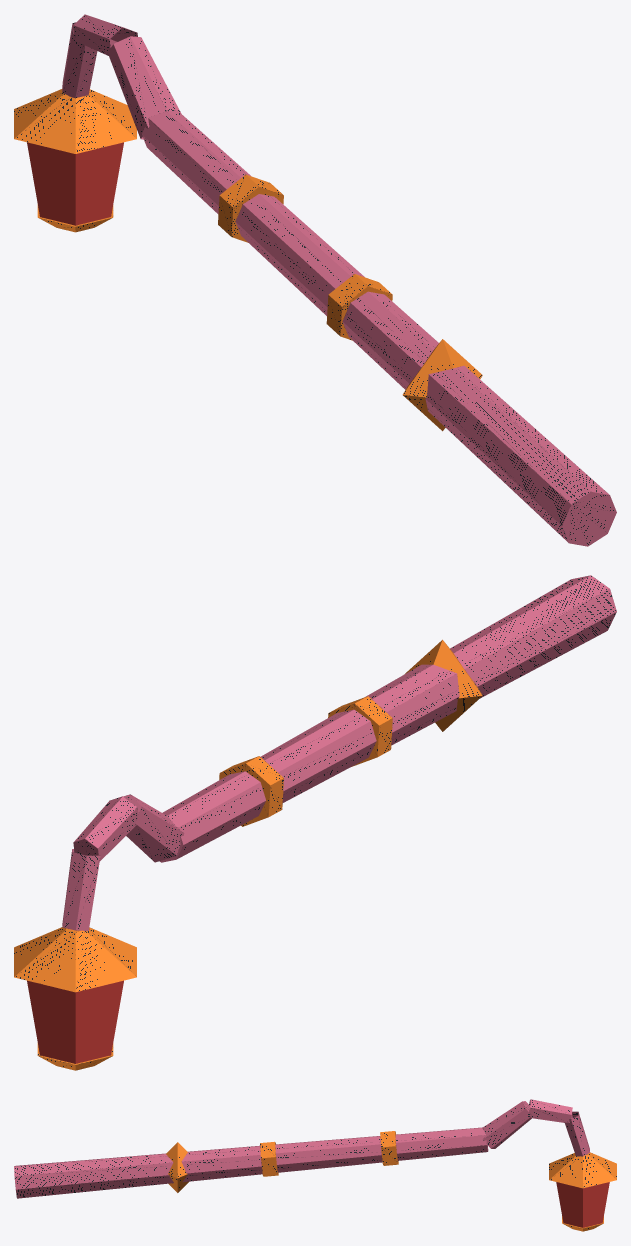
Rendered from G_Stick_5.fbx.
3 renders of one model, top to bottom at view 1: azimuth 30°, elevation 25°; view 2: azimuth 150°, elevation 25°; view 3: azimuth 270°, elevation 25°, orthographic. The views are drawn at different scales.
Visible parts, largest first — view 1: G_Stick_5; view 2: G_Stick_5; view 3: G_Stick_5.
Boxes of the visible parts, x1,y1,x2,y2 form: G_Stick_5: (14, 14, 616, 546); G_Stick_5: (14, 575, 616, 1070); G_Stick_5: (14, 1099, 616, 1231).
Size of the model in its own units: 0.26 by 0.4655 by 2.
